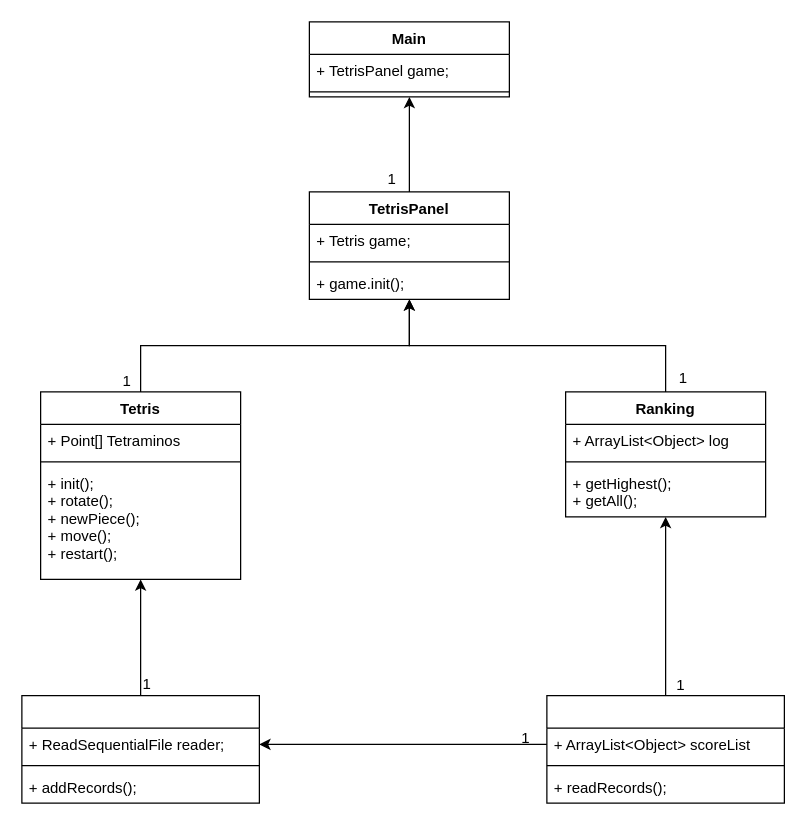
Image size: 806x829. Some labels were removed from this diagram. The box of each missing label's shape, as (x1, y1, x2, y2) in pixels:
CreateSequentialFile: (21, 694, 259, 803)
ReadSequentialFile: (546, 694, 784, 803)
